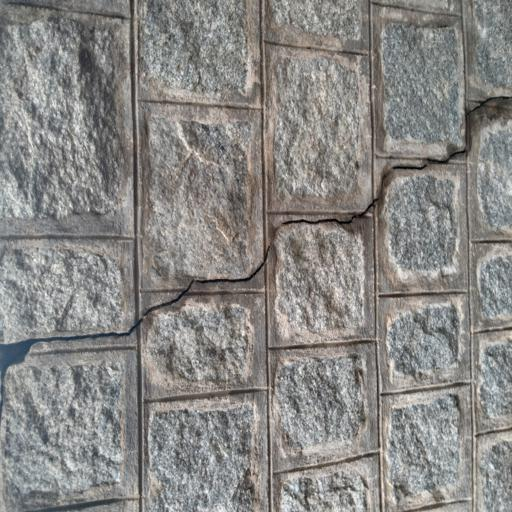major_crack: (0, 77, 512, 394)
